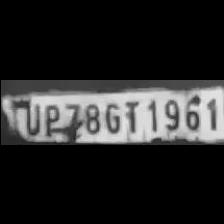1: (141, 96, 159, 134), (204, 94, 220, 130)
6: (182, 95, 202, 131)
7: (60, 99, 80, 138)
8: (82, 99, 102, 135)
9: (160, 95, 180, 131)
G: (100, 98, 122, 134)
P: (38, 100, 62, 136)
T: (120, 98, 142, 134)
U: (14, 98, 40, 136)
